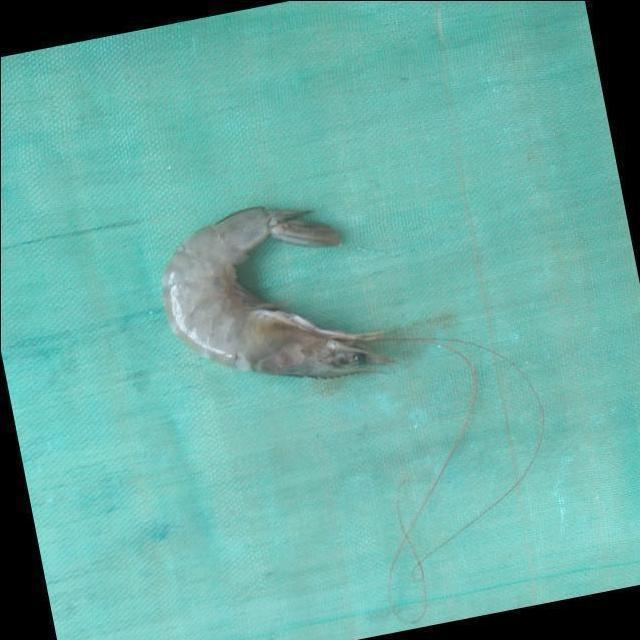shrimp: (161, 206, 391, 377)
